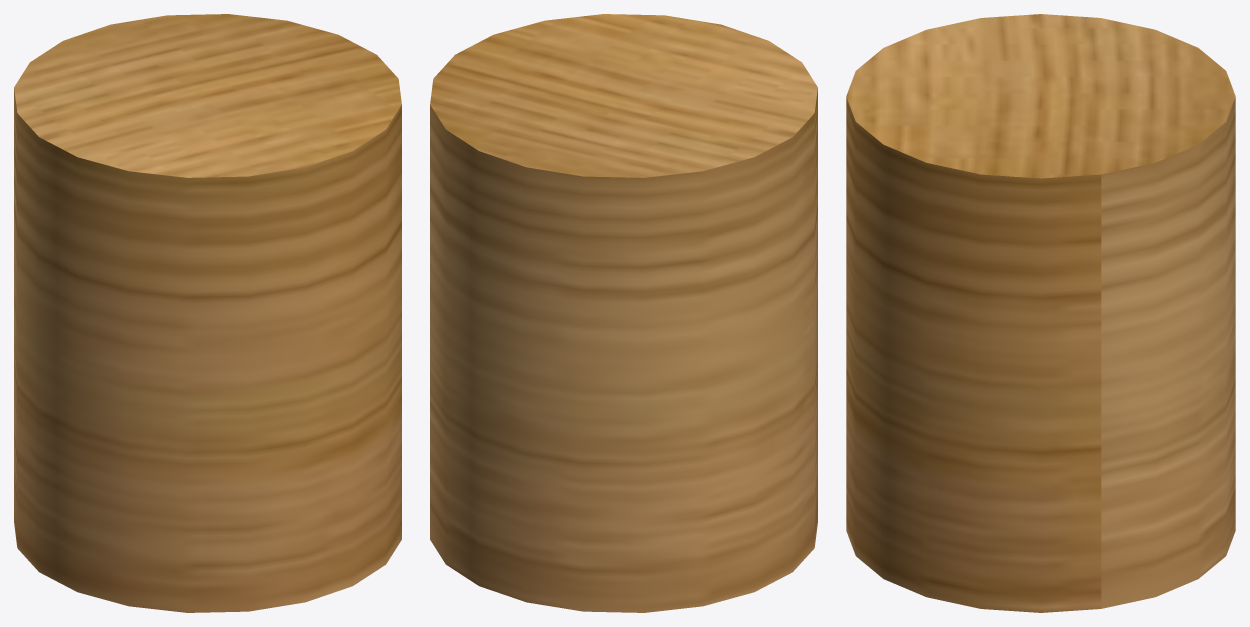
Rendered from cylingwood.obj.
3 views of the same model, side by side, from view 1: azimuth 30°, elevation 25°; view 2: azimuth 150°, elevation 25°; view 3: azimuth 270°, elevation 25° (orthographic).
Parts seen in each view (by area): view 1: pCylinder1; view 2: pCylinder1; view 3: pCylinder1.
Part boxes in pixels (box(x1,y1,x2,y2)): pCylinder1: box(14, 14, 401, 612); pCylinder1: box(430, 14, 817, 612); pCylinder1: box(846, 14, 1235, 612).
Size of the model in its own units: 5 by 6.16 by 5.
1 material, 1 textured.
